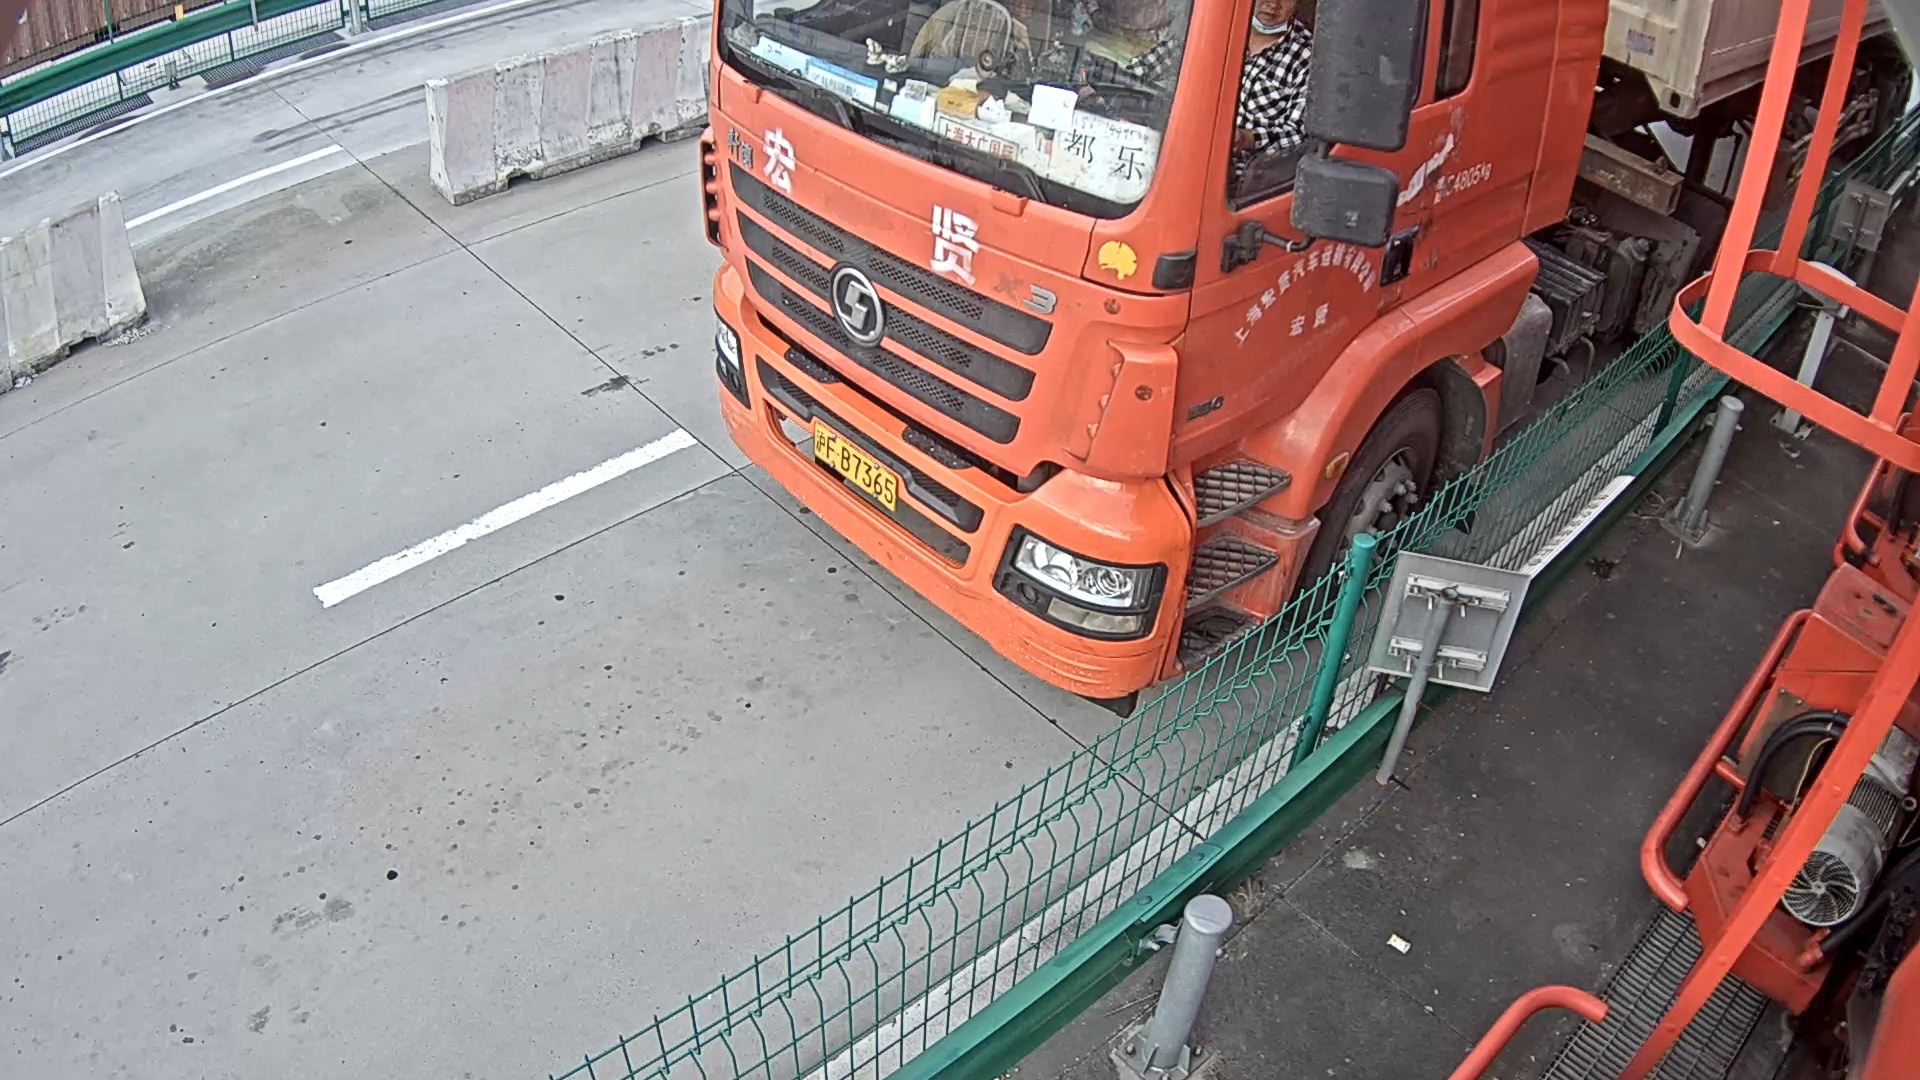head: (701, 1, 1606, 706)
plate: (817, 421, 897, 511)
